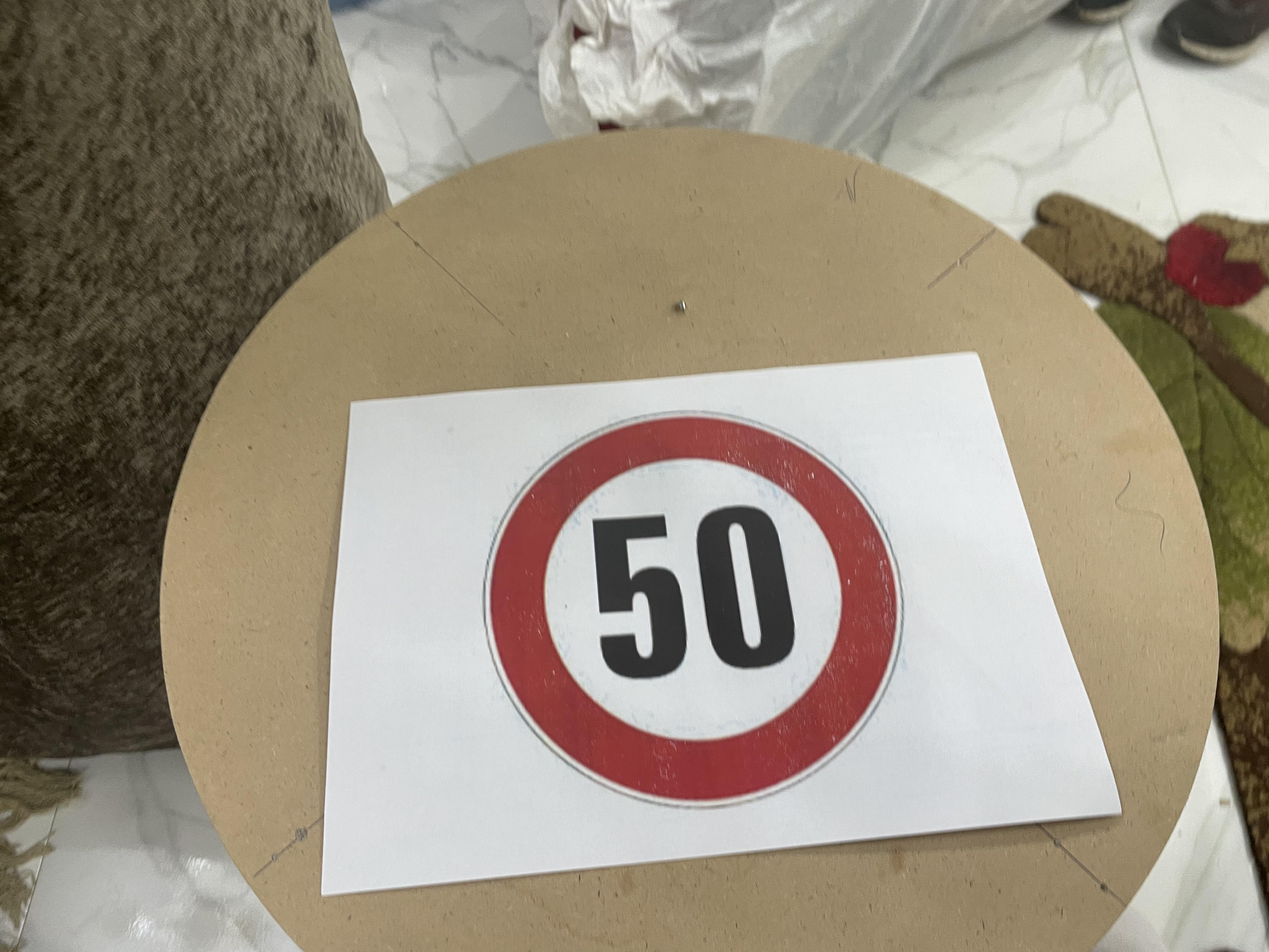50-Speed: (361, 148, 790, 544)
